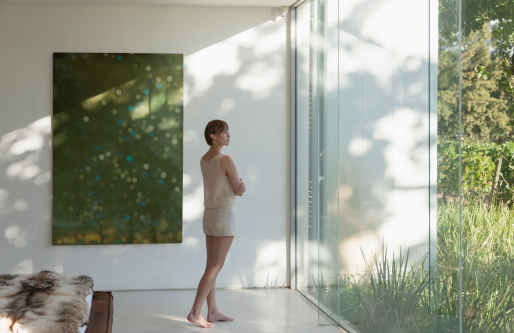em pe: (184, 110, 249, 322)
